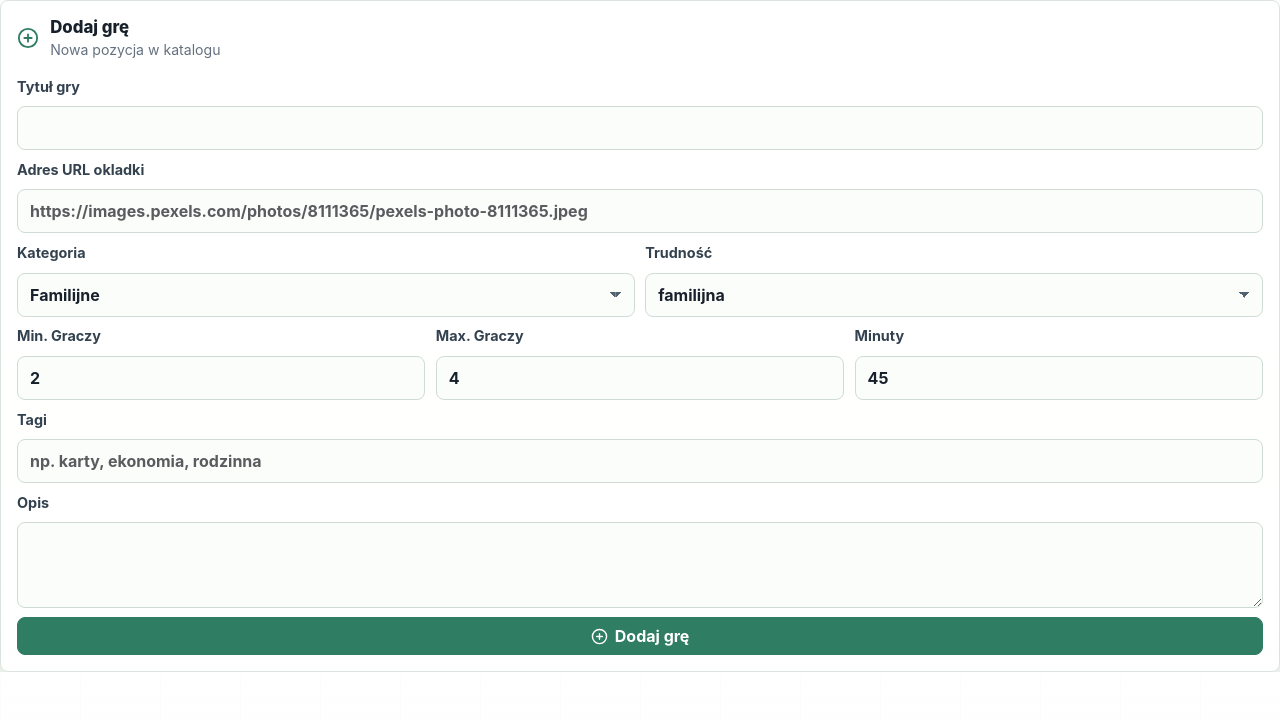
Scenario: ManagerPanel › rejects a cover value that is not an image URL
Type "Nowa Gra" into the field labelled "Tytuł gry". click: coordinates (640, 128)
box: [17, 106, 1263, 150]
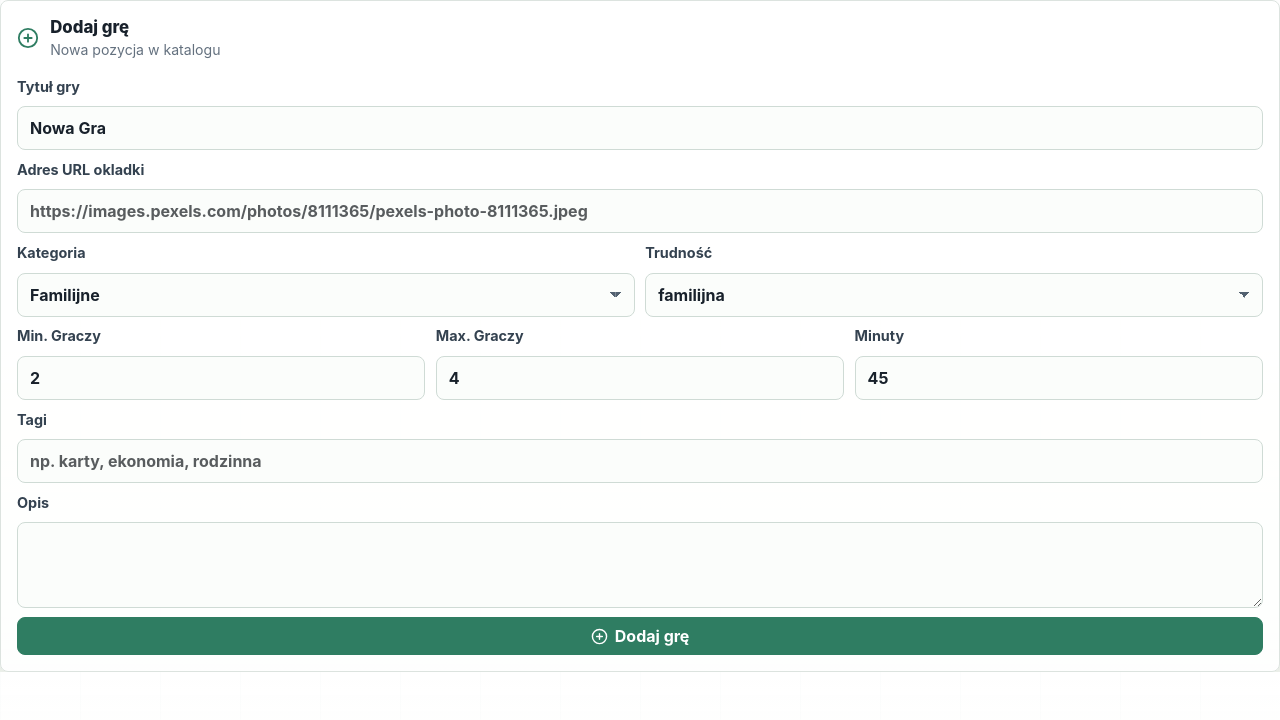
Replace the text in the field labelled "Adres URL okladki" with "not-a-url". click: coordinates (640, 212)
box: [17, 190, 1263, 234]
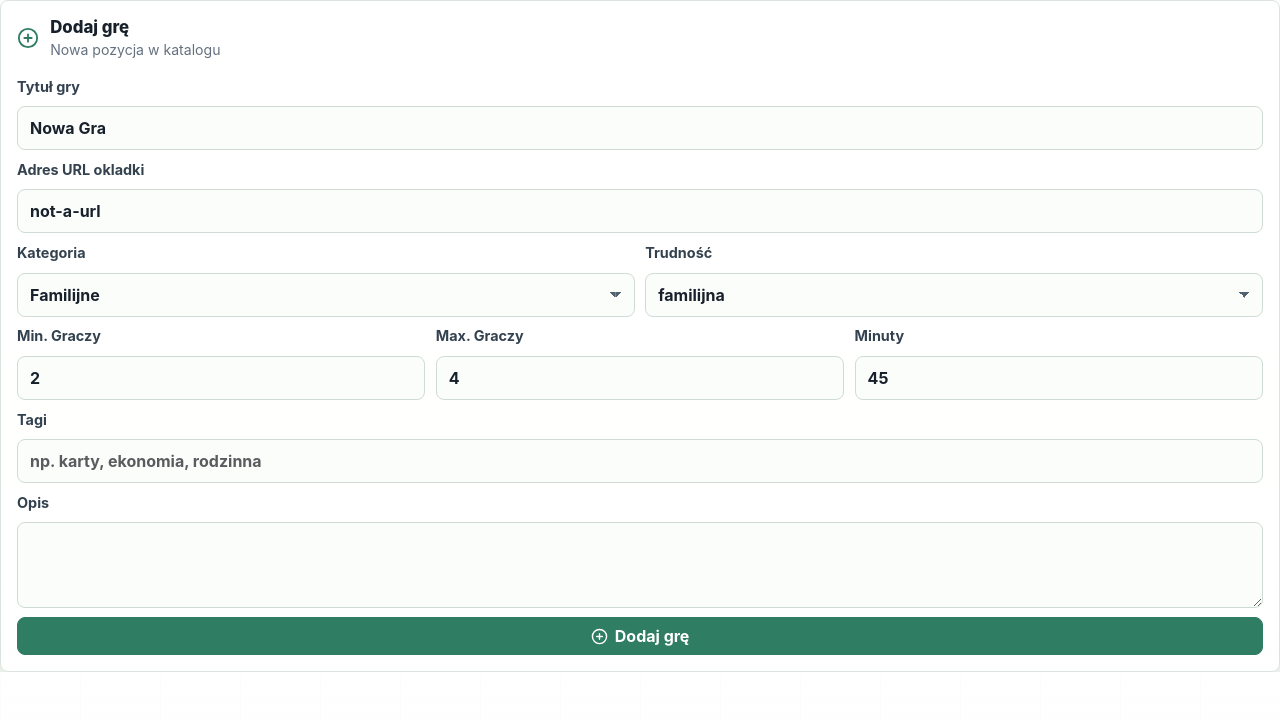
Type "strategia, rodzinna" into the field labelled "Tagi". click: coordinates (640, 461)
box: [17, 439, 1263, 483]
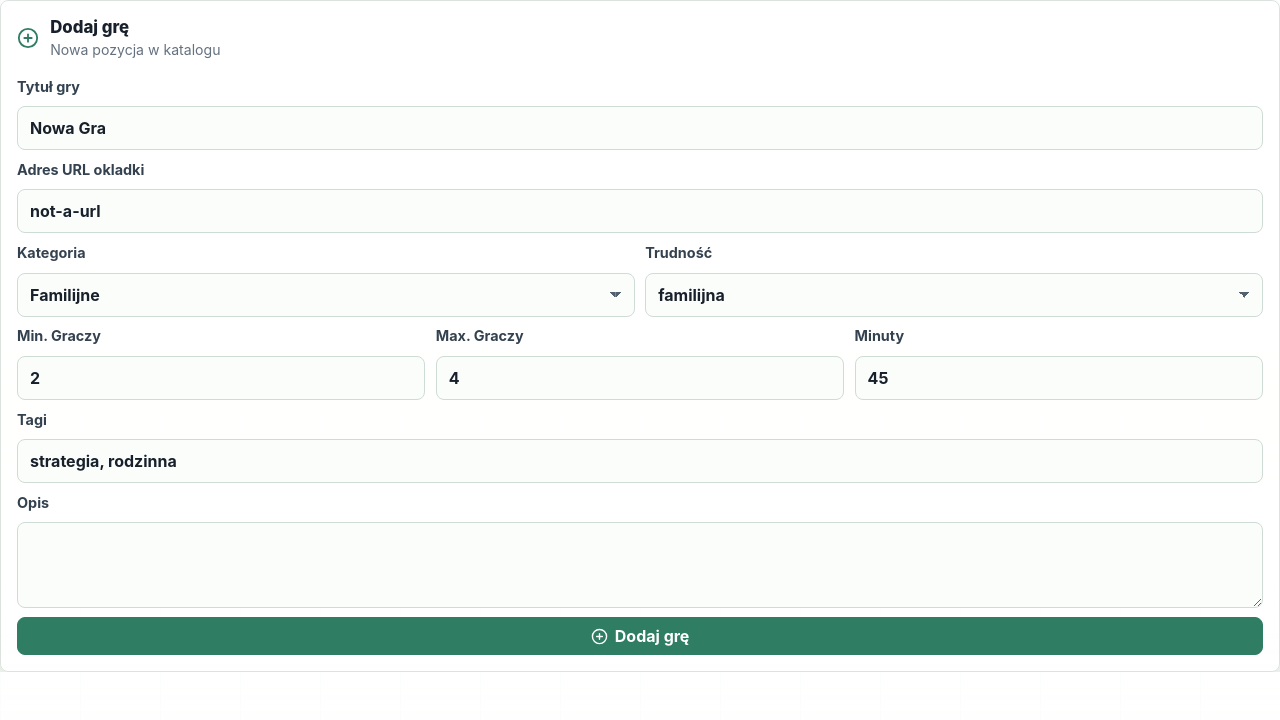
Type "Opis gry ma wystarczajaca dlugosc do zapisania w katalogu." into the text box labelled "Opis". click: coordinates (640, 565)
box: [17, 522, 1263, 608]
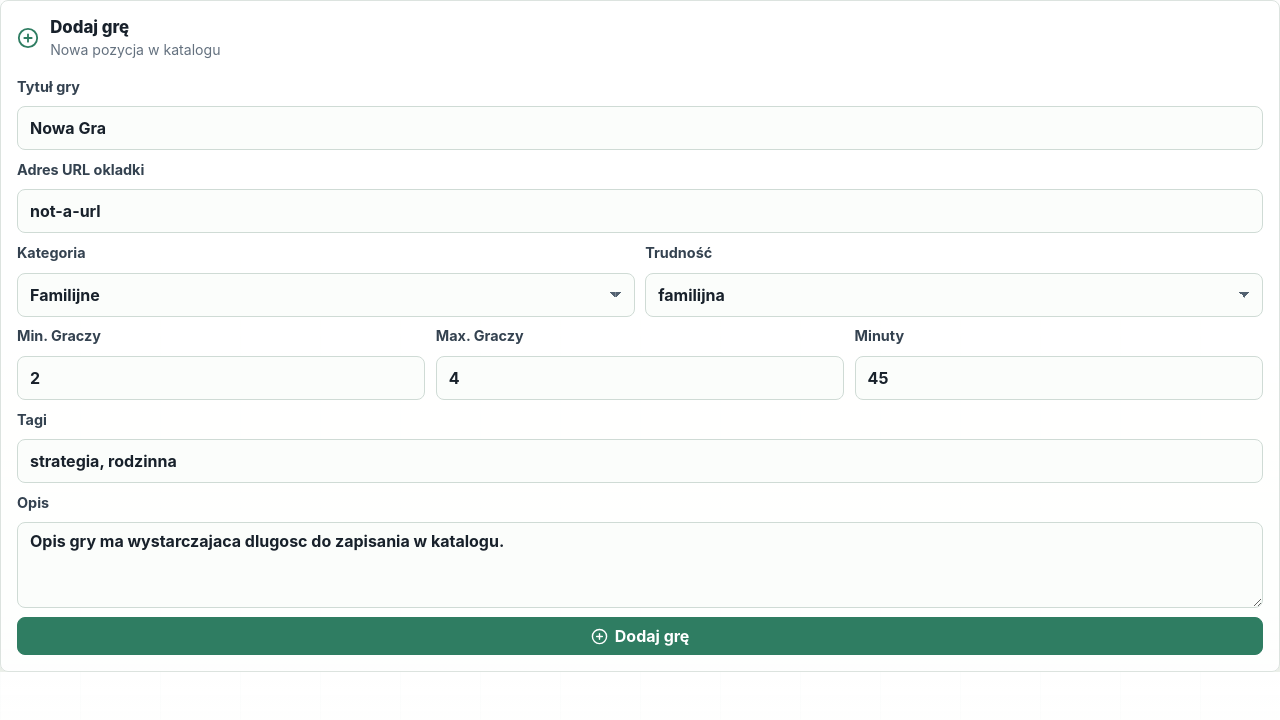
Click the button "Dodaj grę". click: coordinates (640, 636)
box: [17, 617, 1263, 655]
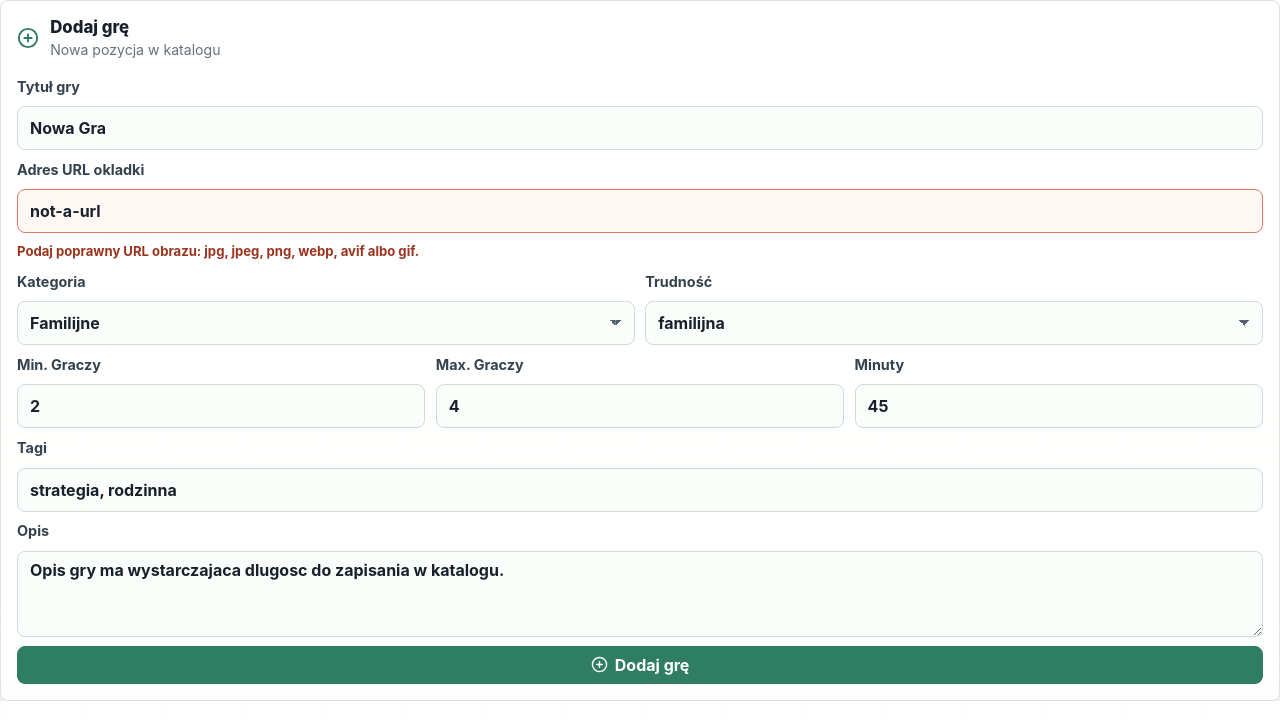
Expected: the text "Podaj poprawny URL obrazu" is shown, [17, 243, 419, 259]
